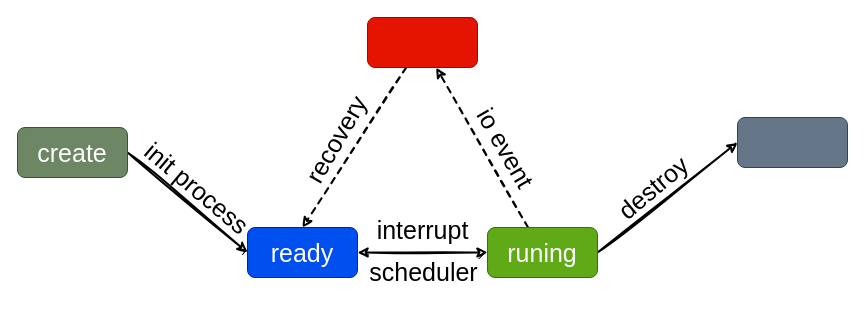
Some shapes in this 865 by 309 pixel diagram are drawn without their labels. The centre of each missing label's shape, as x and y in pixels:
"block" belongs at [422,42].
"stop" belongs at [792,142].
